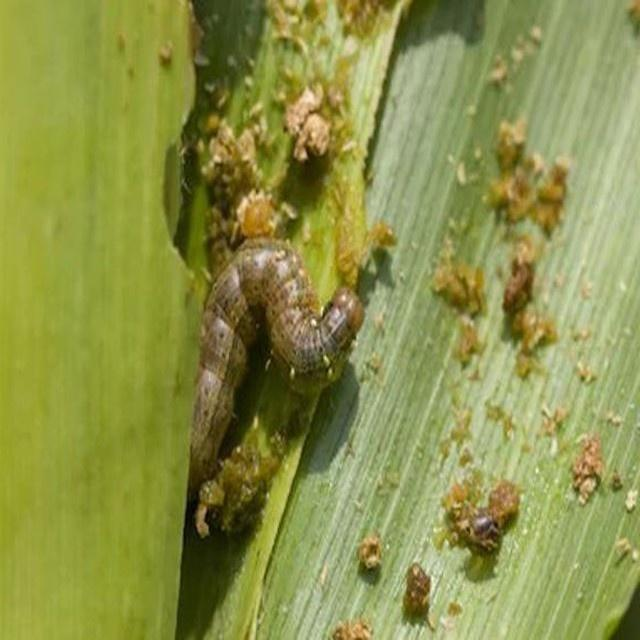Plaga: (174, 228, 365, 514)
